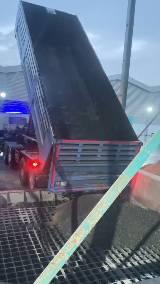gravel: (86, 196, 159, 251), (55, 195, 101, 234)
